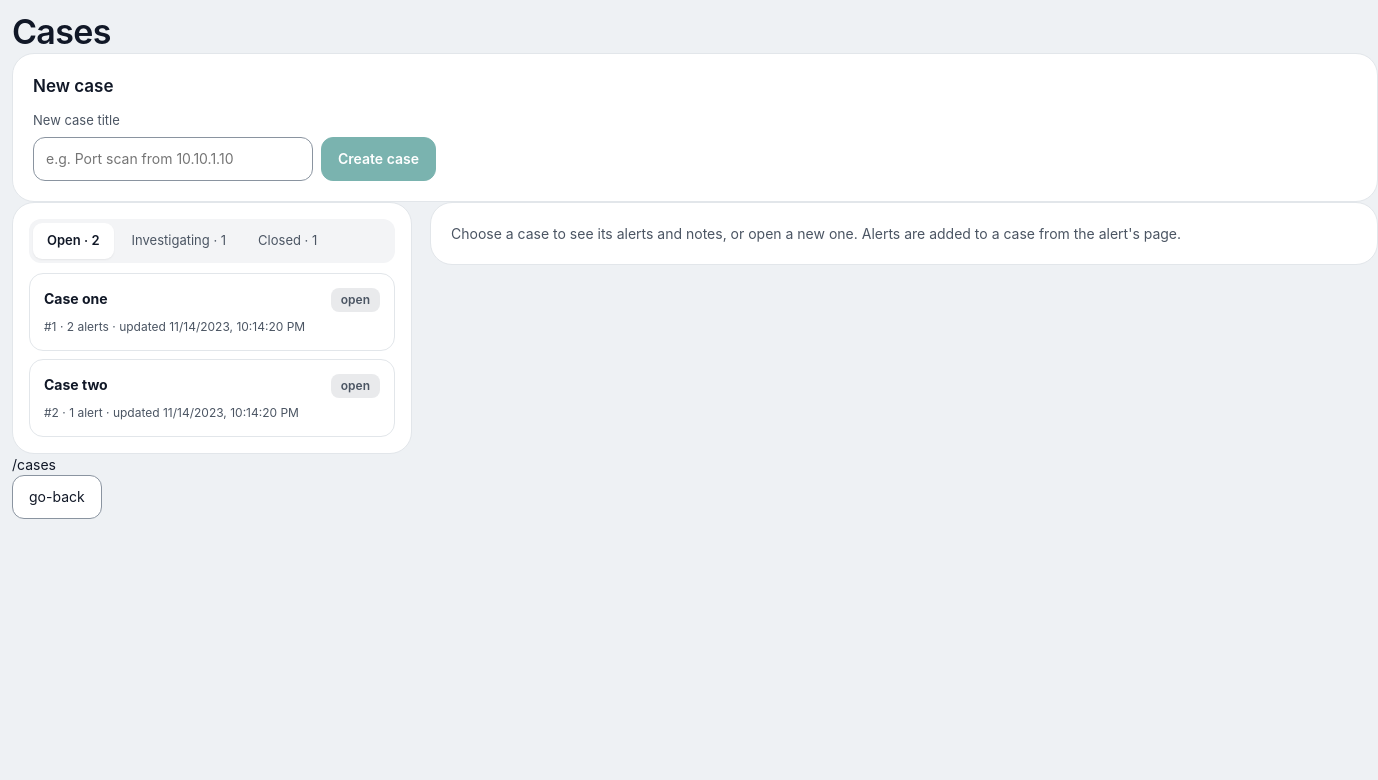
Test case: create › posts the trimmed title, clears, reloads and navigates
The image size is (1378, 780).
Type "  Brand new  " into the field labelled "New case title" at (173, 159), box top-left (33, 137), bottom-right (313, 181)
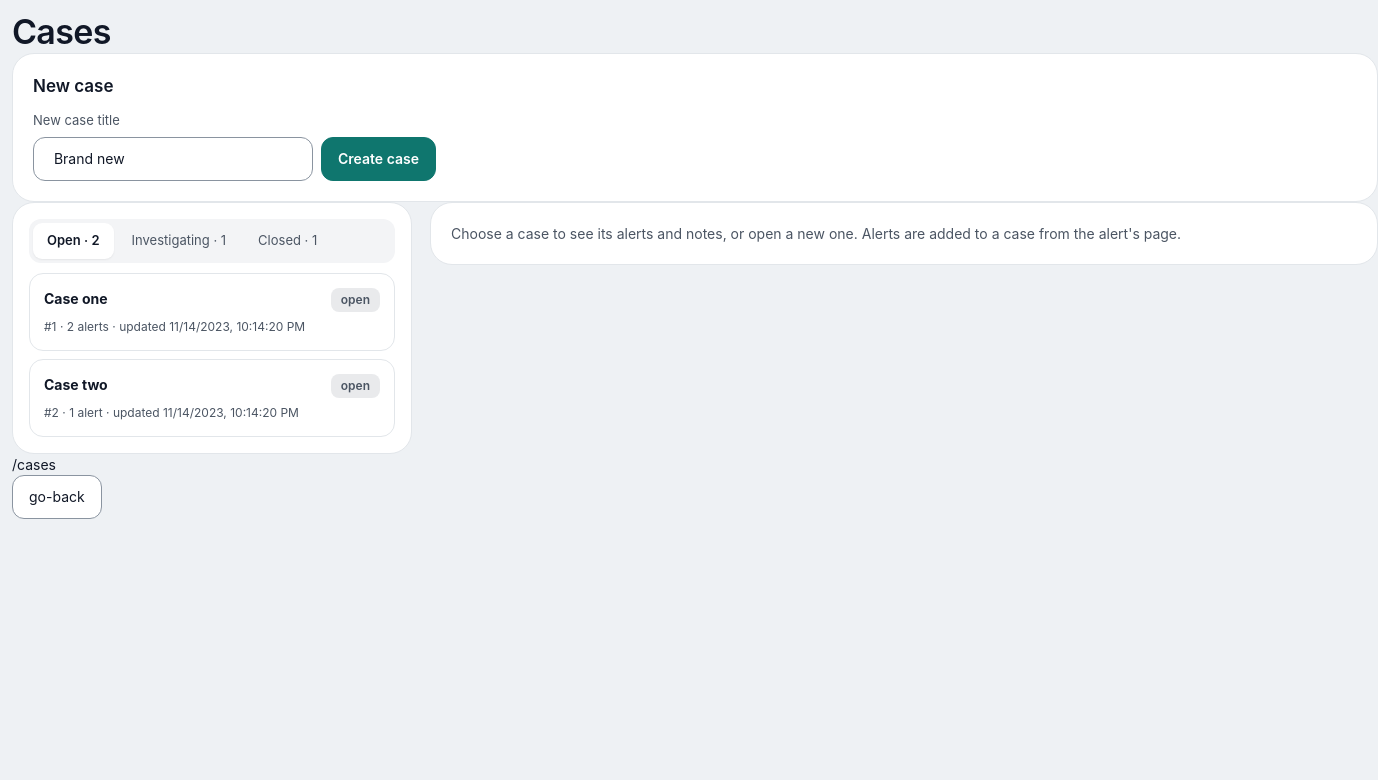
Click the button "Create case" at (378, 159), box top-left (321, 137), bottom-right (436, 181)
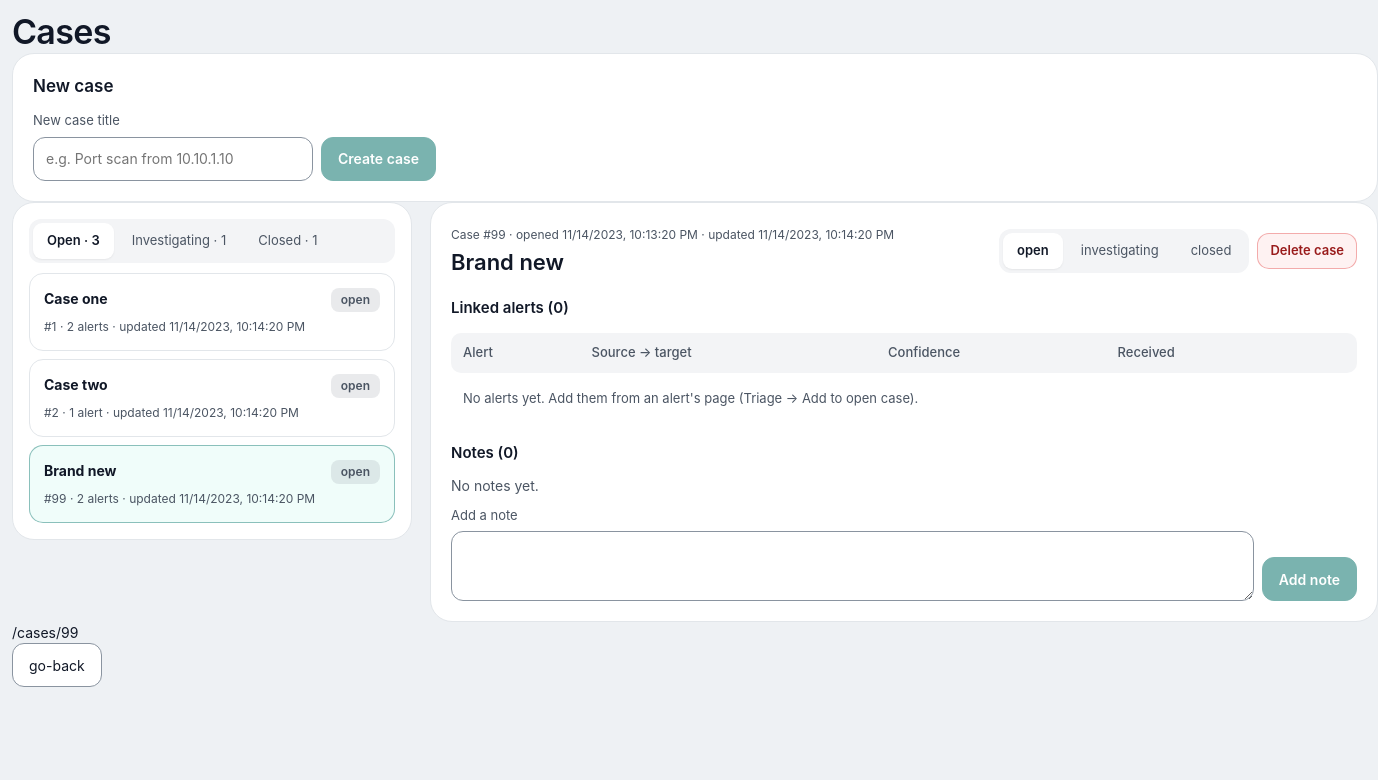
Now the text with test id "loc" reads "/cases/99", box top-left (12, 624), bottom-right (78, 641)
Now the field labelled "New case title" is empty, box top-left (33, 137), bottom-right (313, 181)
Now the heading "Brand new" is shown, box top-left (451, 249), bottom-right (564, 275)
